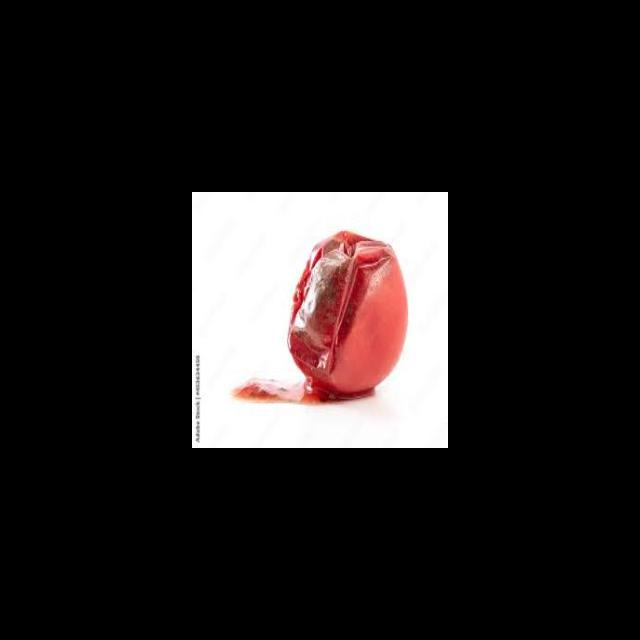tomato: (273, 221, 417, 414)
